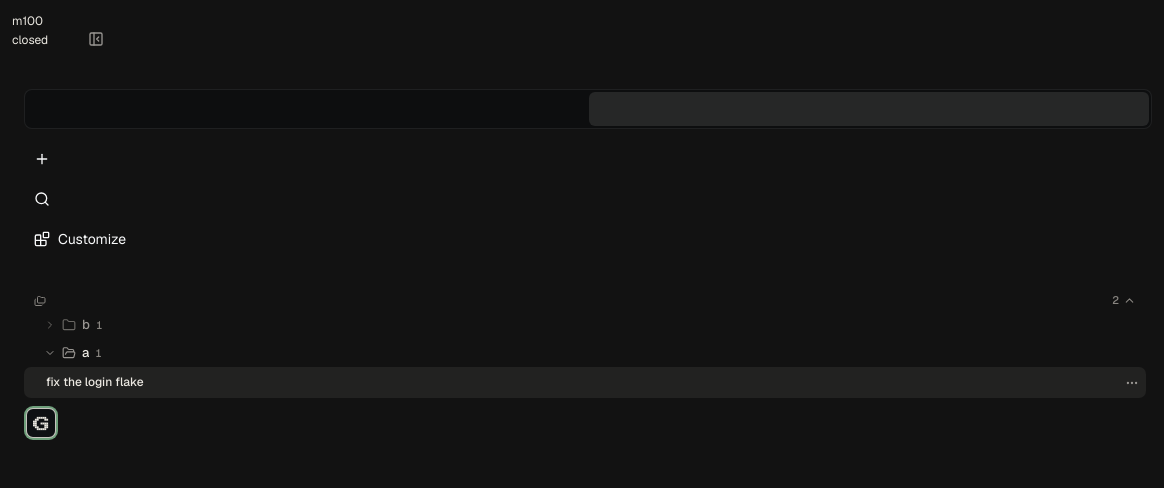
it: Sidebar conversations list › clicking a row switches to that whole conversation
Click the button "b 1" at (50, 325), box [24,311,1146,339]
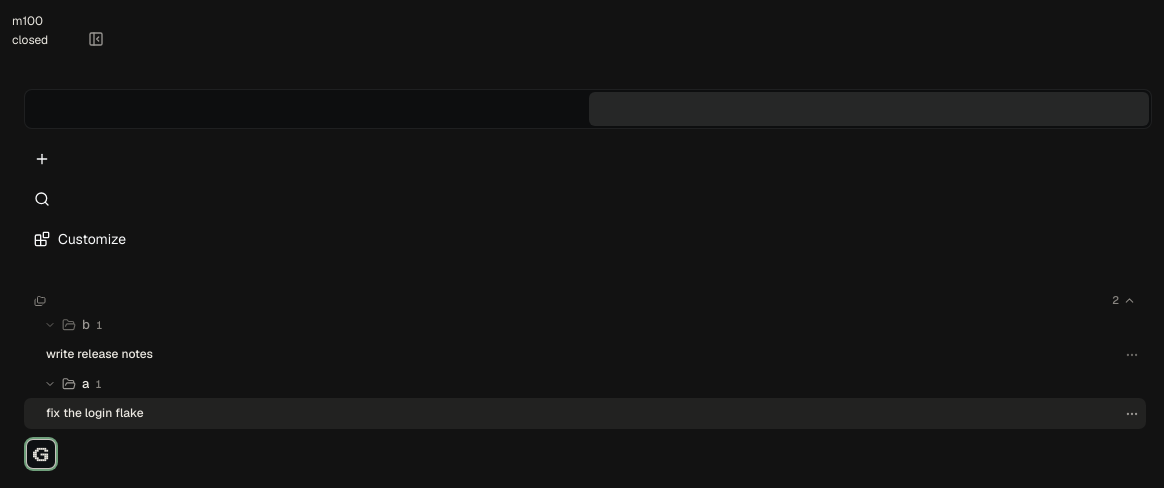
Click the button "write release notes" at (100, 354), box [30,341,1119,368]
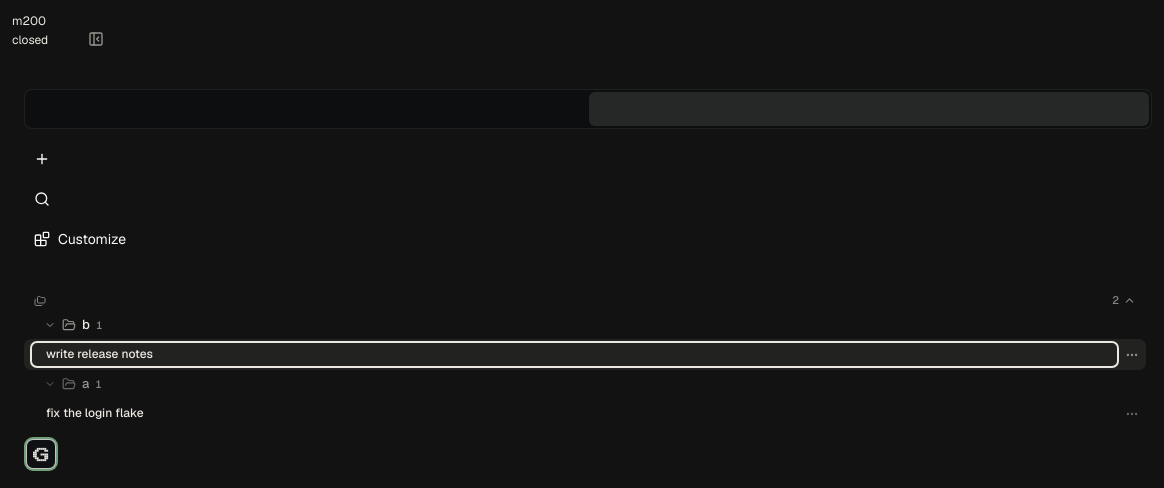
Expected: the text with test id "active-conversation" reads "m200", [12,13,46,29]
